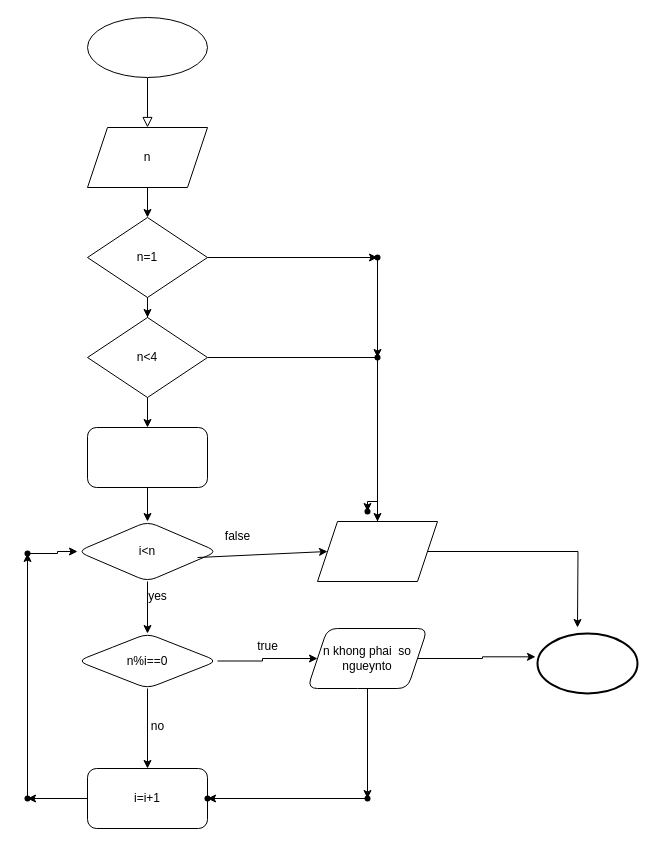
This 656x846 diagram has some shape labels left out. The box of each missing label's shape, as (x1, y1, x2, y2) in pixels:
end: (536, 632, 638, 694)
i=1: (86, 426, 208, 488)
n la so nguyen to: (316, 520, 438, 582)
star: (86, 16, 208, 78)
